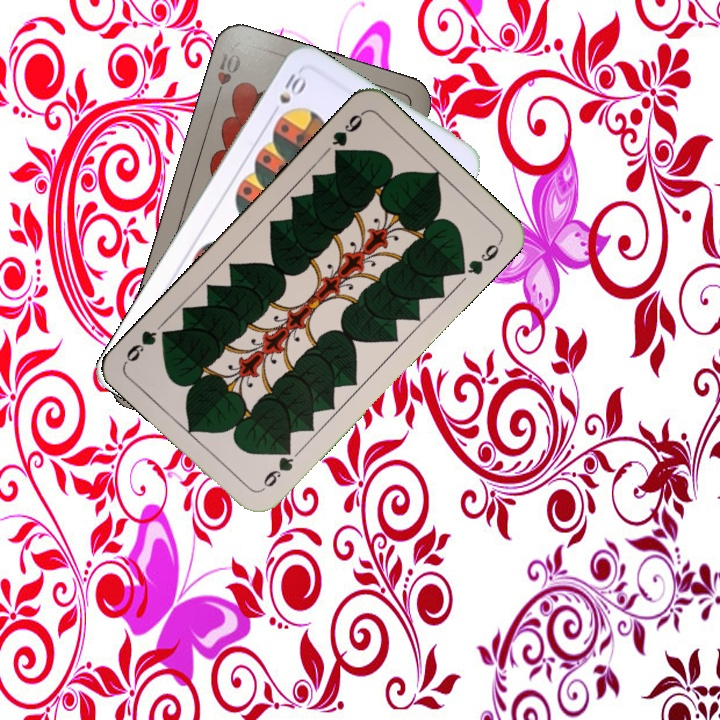G9: (257, 441, 297, 494), (328, 108, 367, 162)
H10: (211, 48, 244, 104)
S10: (275, 69, 309, 107)
